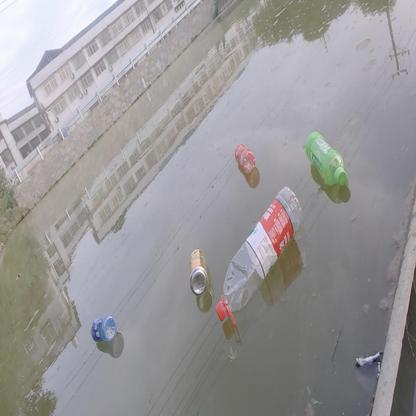can: (188, 249, 209, 296)
plastic bottle: (216, 186, 302, 326), (305, 131, 348, 186), (91, 316, 117, 341), (234, 144, 257, 172)
